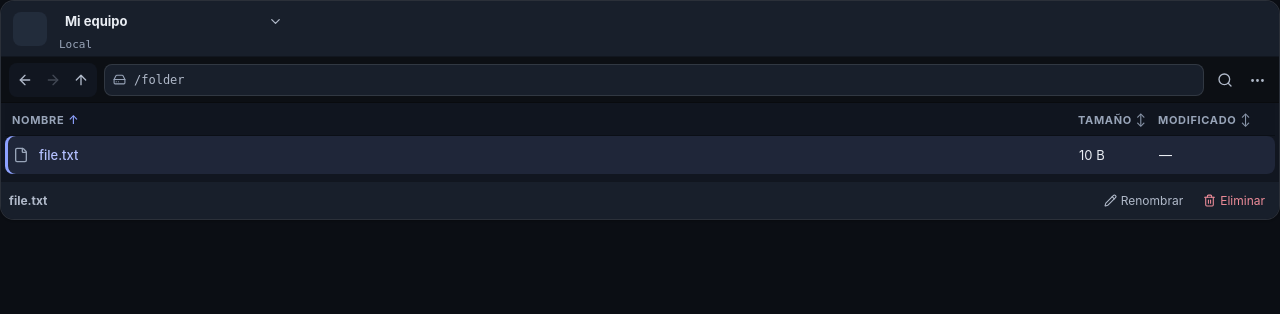
Test: opens and clears the optional filter using Ctrl F and Escape
Press f in the element named "Panel izquierdo: Mi equipo"
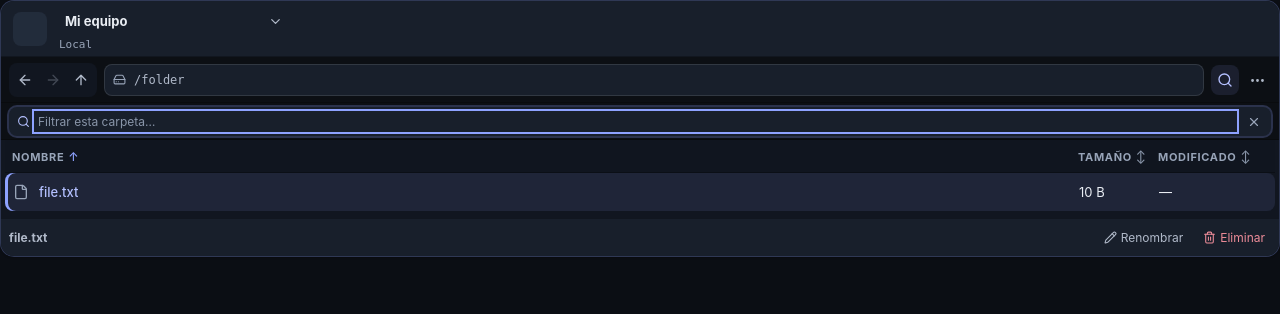
Type "unmatched" into the field named "Filtrar archivos de Mi equipo" at (636, 122), box [36,113,1235,130]
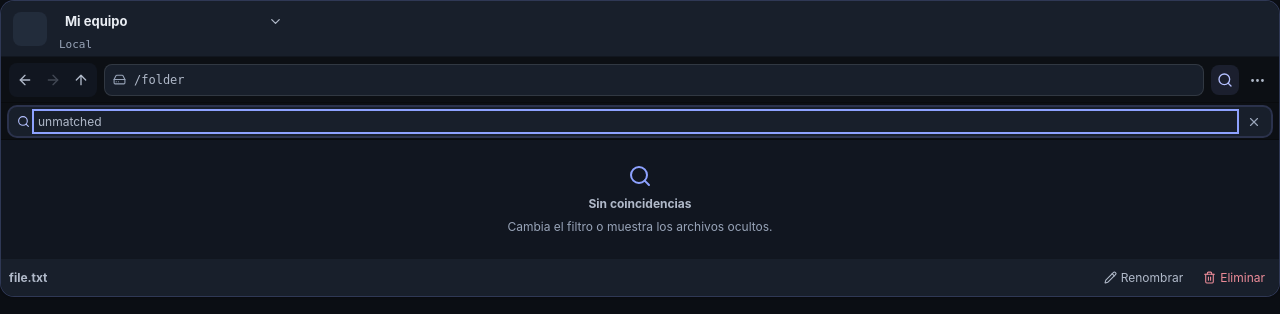
Check: no rows are shown
Press Escape in the field named "Filtrar archivos de Mi equipo", box [36,113,1235,130]
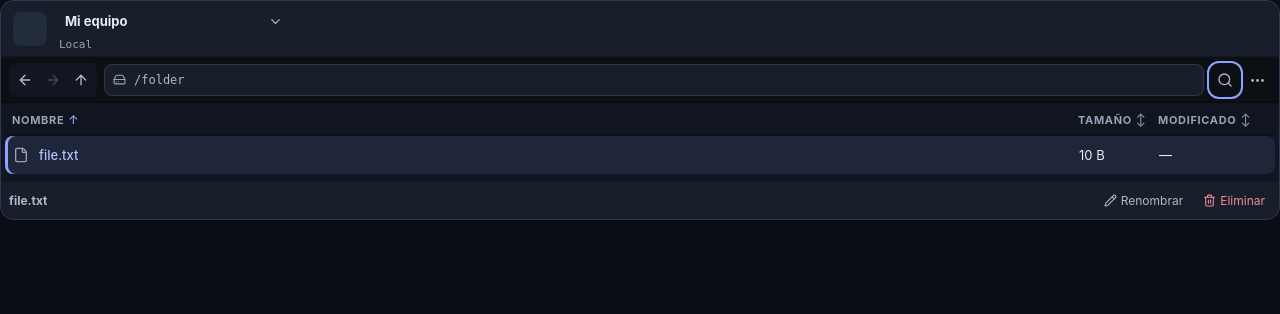
Check: the 1st text "file.txt" is shown, box [39,147,78,163]
